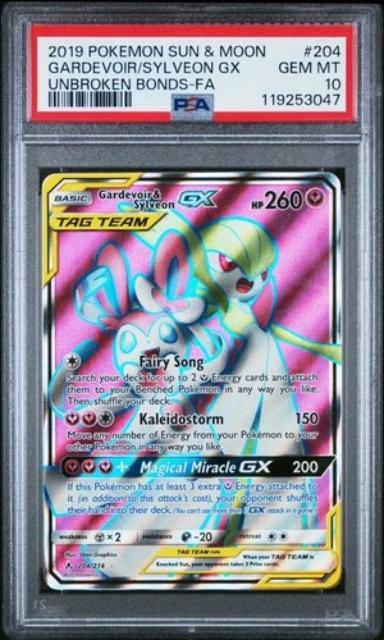Card: (39, 168, 347, 595)
Name: (95, 183, 181, 213)
